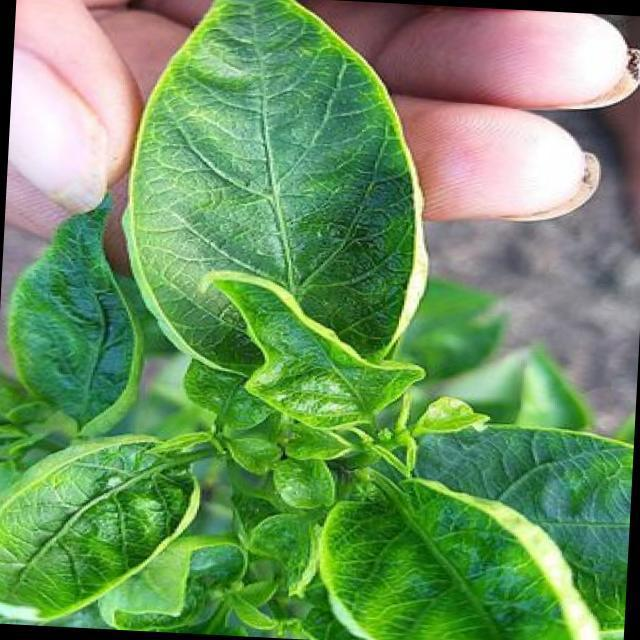Yellow Curl Virus: (123, 0, 425, 386), (321, 478, 609, 640), (195, 270, 436, 430), (0, 437, 202, 627), (0, 189, 141, 438)
